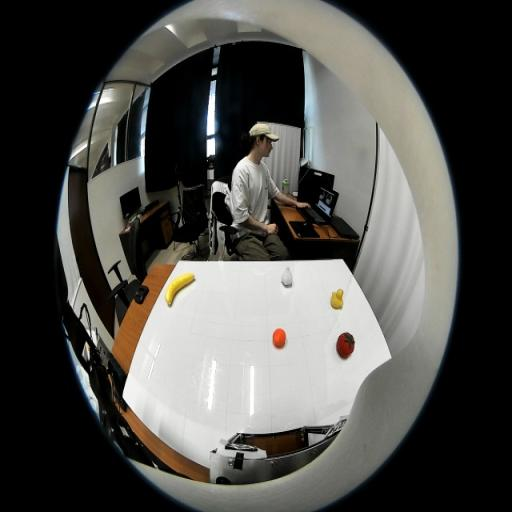Banana: (165, 272, 195, 305)
Duck: (330, 289, 344, 309)
Onion: (280, 266, 292, 286)
Orange: (272, 328, 286, 347)
Tomato: (336, 332, 354, 357)
